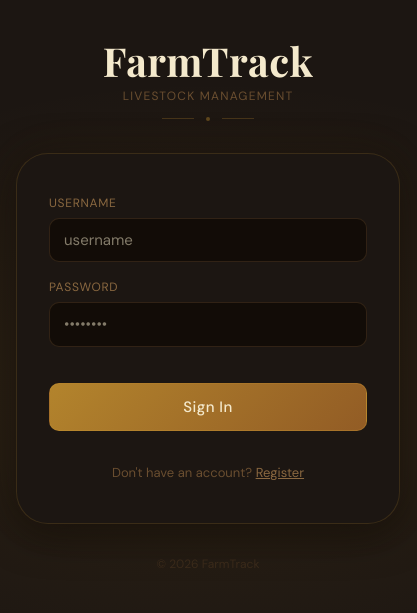
login page — accessibility (P4) + 200-typed-payload flow (P1) › shows a network-error message inside the alert region when fetch rejects
This screenshot has width=417, height=613.
In the field labelled "Username": (208, 240) [49, 218, 367, 262], type "nobody"
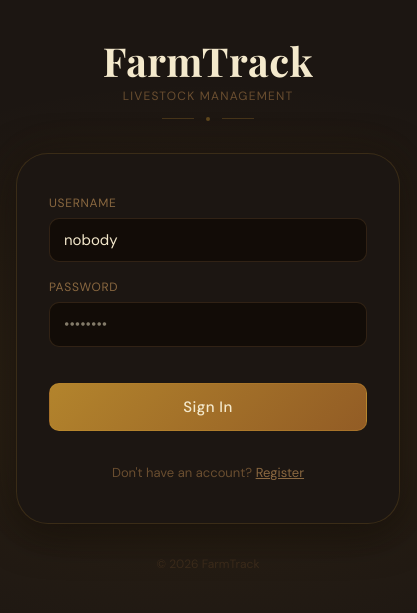
In the password field labelled "Password": (208, 324) [49, 302, 367, 346], type "nope"
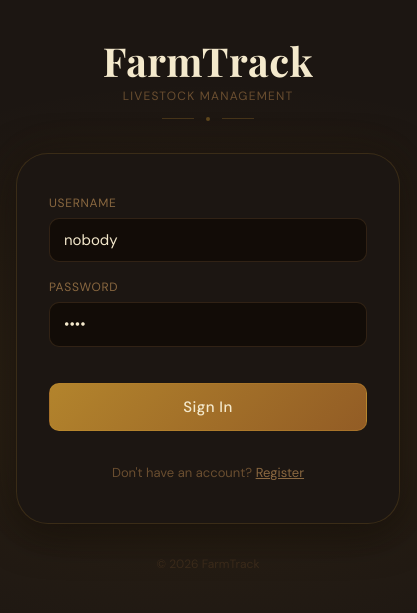
Click the button "Sign In": click(208, 407) [49, 382, 367, 431]
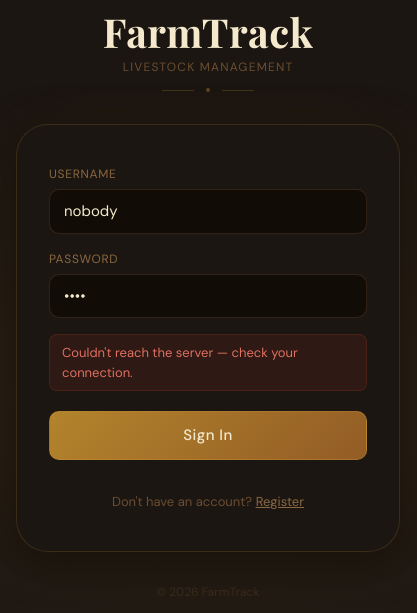
Check: the message shows "Couldn't reach the server", box [62, 344, 298, 380]
